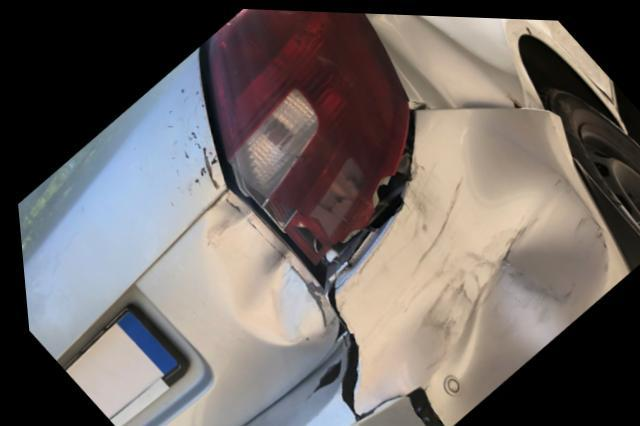crack: (322, 232, 441, 426), (296, 355, 336, 401)
dent: (198, 188, 322, 344), (372, 11, 516, 105), (491, 236, 609, 350)
lamp broken: (204, 7, 412, 288)
scratch: (402, 162, 523, 348)
